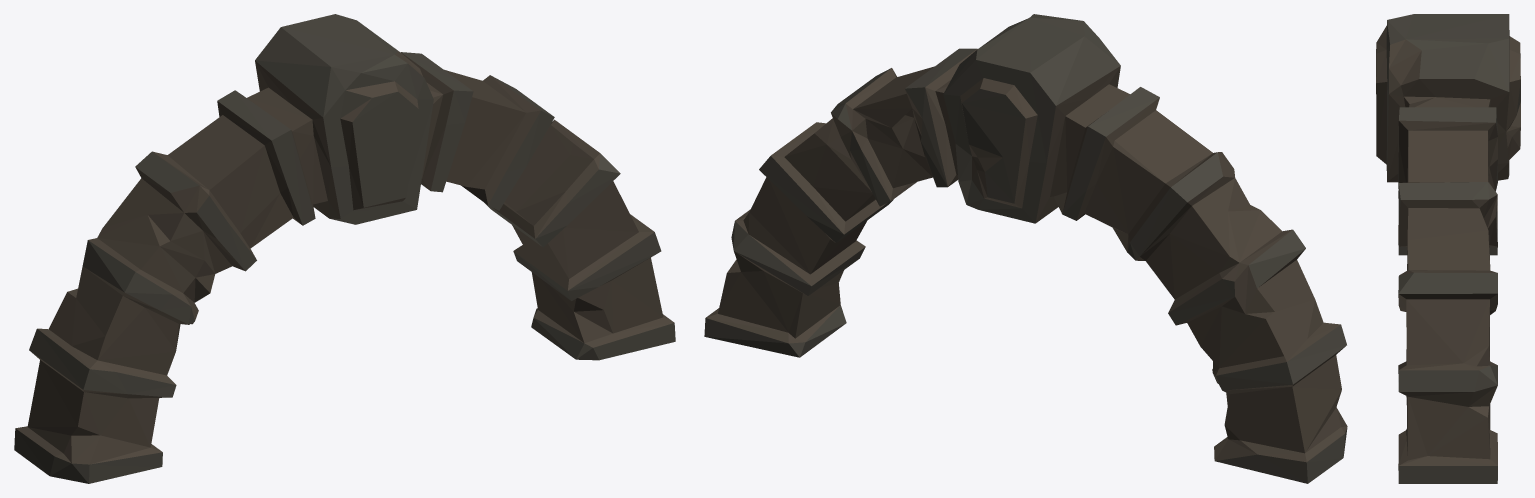
3 renders of one model, left to right at view 1: azimuth 30°, elevation 25°; view 2: azimuth 150°, elevation 25°; view 3: azimuth 270°, elevation 25°, orthographic. The views are drawn at different scales.
Parts seen in each view (by area): view 1: SM_Prop_Pillar_Arch_01; view 2: SM_Prop_Pillar_Arch_01; view 3: SM_Prop_Pillar_Arch_01.
Part boxes in pixels (<box>): SM_Prop_Pillar_Arch_01: <box>14,14,675,483</box>; SM_Prop_Pillar_Arch_01: <box>704,14,1347,483</box>; SM_Prop_Pillar_Arch_01: <box>1376,14,1520,483</box>.
Size of the model in its own units: 2.57 by 1.42 by 0.5813.
Materials: 1 (1 with a texture image).
